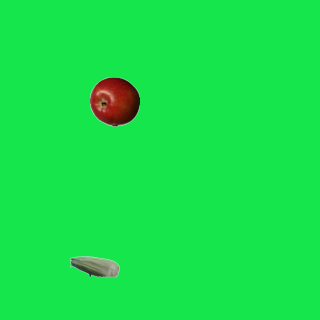Apple Braeburn: (89, 76, 139, 126)
Corn Husk: (69, 241, 119, 291)
